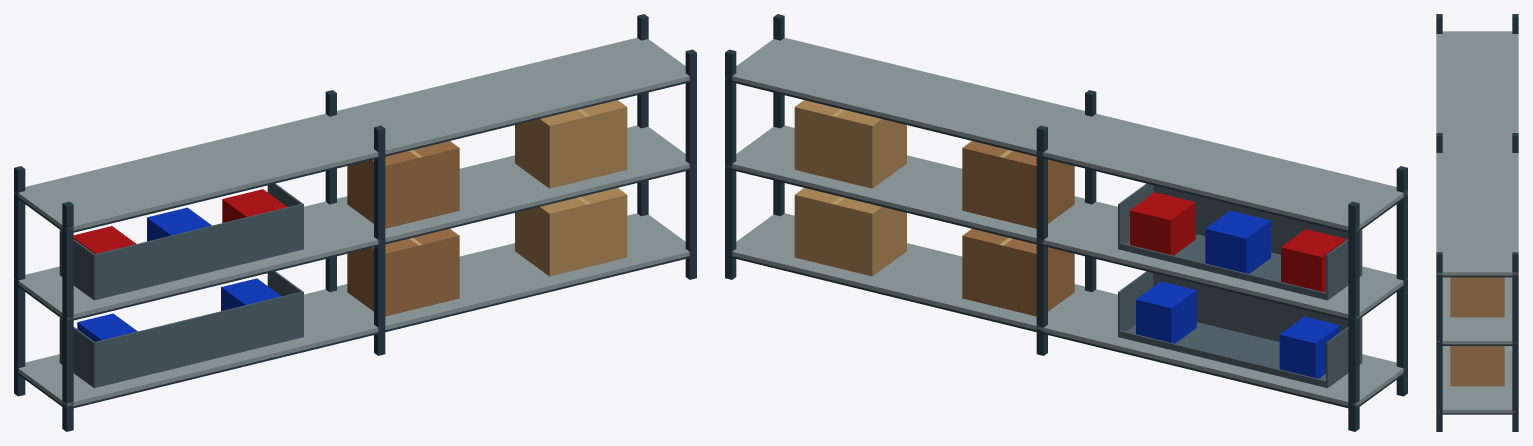
File: rack.dae
3 views of the same model, side by side, from view 1: azimuth 30°, elevation 25°; view 2: azimuth 150°, elevation 25°; view 3: azimuth 270°, elevation 25° (orthographic). The views are drawn at different scales.
Parts seen in each view (by area): view 1: model; view 2: model; view 3: model.
Boxes of the visible parts, x1,y1,x2,y2 form: model: (14,14,696,431); model: (725,14,1407,431); model: (1436,14,1518,431).
Size of the model in its own units: 5.26 by 0.76 by 1.8.
